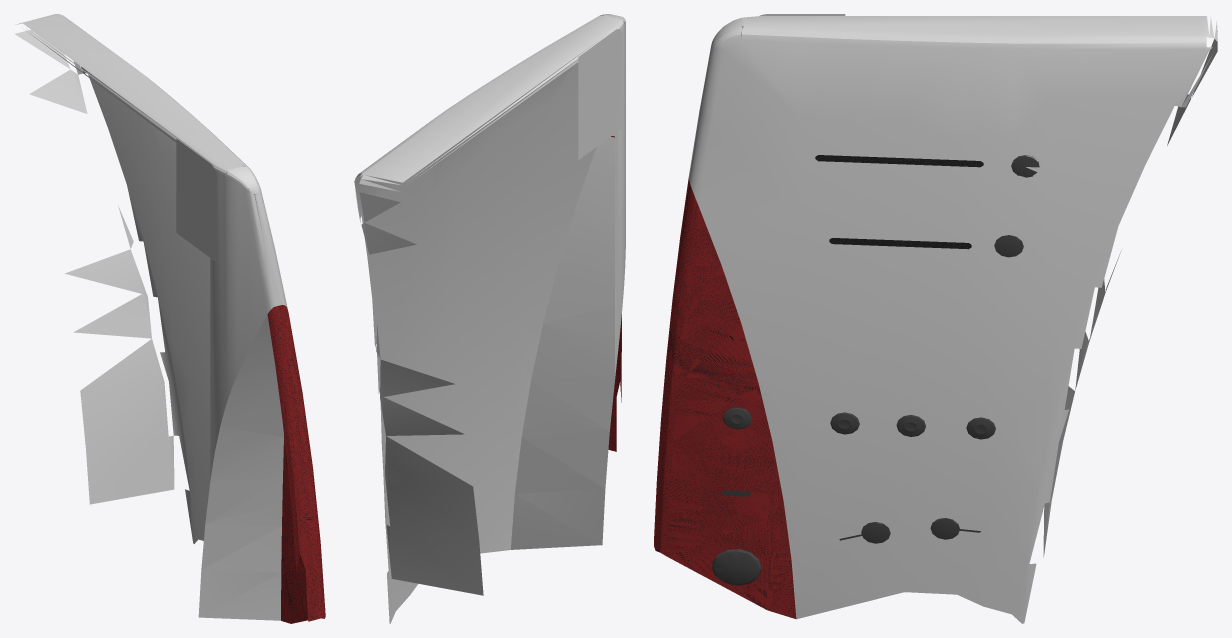
The model's file is washer_front_top_right.dae.
3 renders of one model, left to right at view 1: azimuth 30°, elevation 25°; view 2: azimuth 150°, elevation 25°; view 3: azimuth 270°, elevation 25°, orthographic. The views are drawn at different scales.
Parts seen in each view (by area): view 1: SketchUp (×6); view 2: SketchUp (×6); view 3: SketchUp (×5).
Part boxes in pixels (x1=…): SketchUp (×6): x1=14, y1=14, x2=325, y2=623; SketchUp (×6): x1=354, y1=14, x2=625, y2=623; SketchUp (×5): x1=654, y1=14, x2=1212, y2=623.
Bounding box in the file's own units: 12.37 × 2.53 × 11.31.
